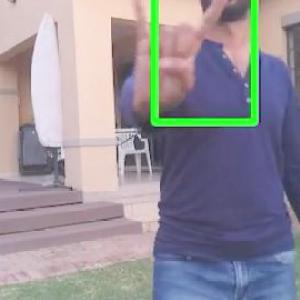takeoff-hand: (122, 0, 239, 120)
